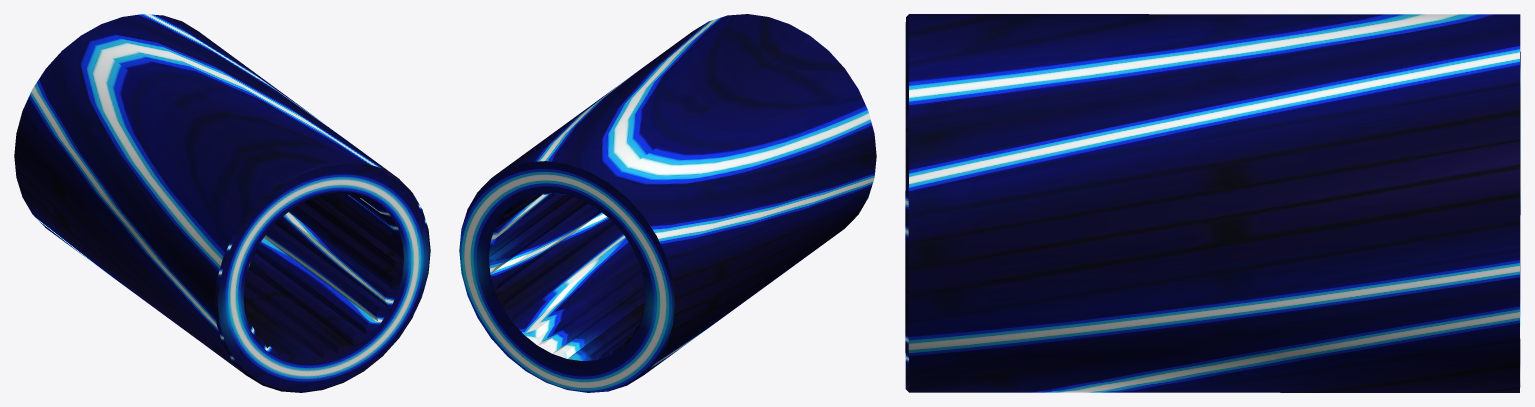
Rendered from N3TuberiaCilindro.fbx.
3 renders of one model, left to right at view 1: azimuth 30°, elevation 25°; view 2: azimuth 150°, elevation 25°; view 3: azimuth 270°, elevation 25°, orthographic. The views are drawn at different scales.
Visible parts, largest first — view 1: pCylinder23.002; view 2: pCylinder23.002; view 3: pCylinder23.002.
Part boxes in pixels (left/top/right/bottom): pCylinder23.002: left=14, top=14, right=430, bottom=392; pCylinder23.002: left=459, top=14, right=876, bottom=392; pCylinder23.002: left=905, top=14, right=1520, bottom=392.
Size of the model in its own units: 618 by 616 by 1000.
Materials: 1 (1 with a texture image).
